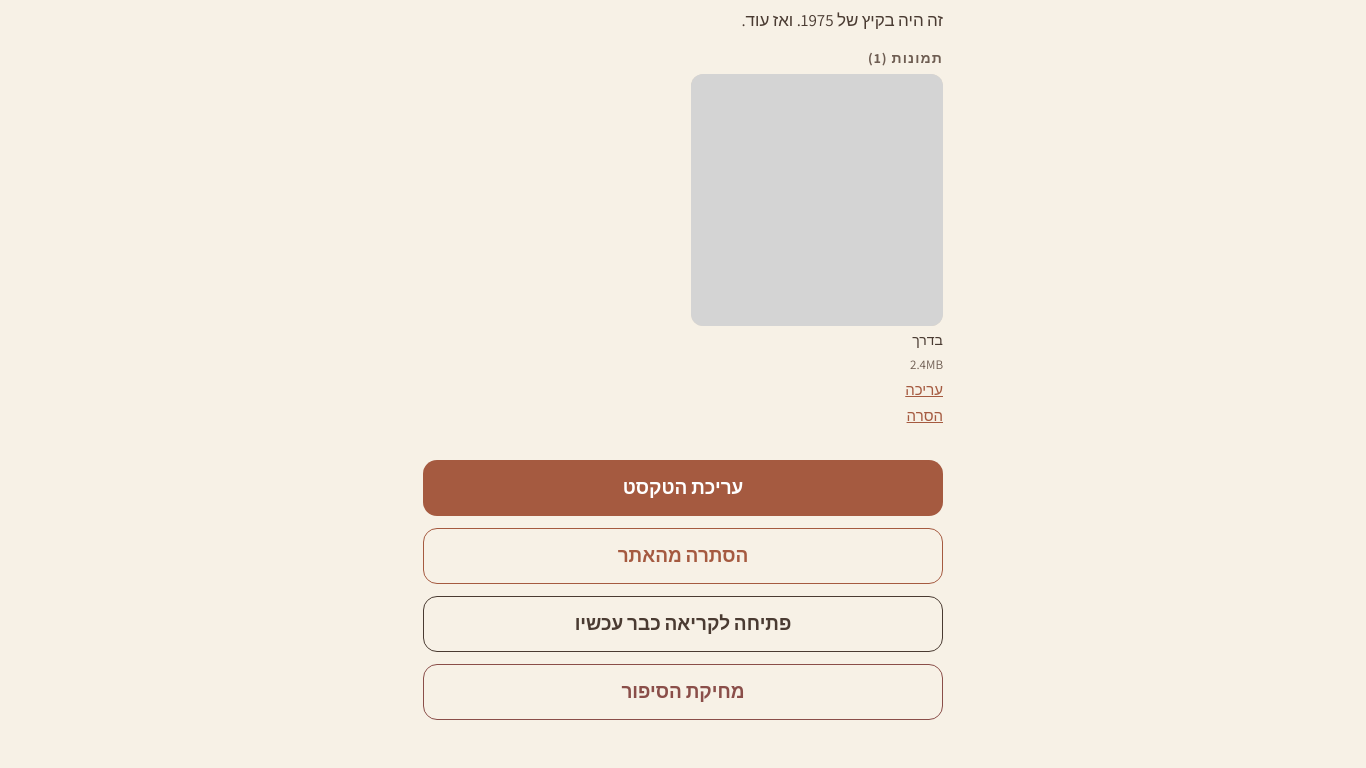
Test case: admin pages › deletes a story only after confirming
The width and height of the screenshot is (1366, 768).
(page scrolled)
Click the button "מחיקת הסיפור" at point(683, 692), box top-left (423, 664), bottom-right (943, 720)
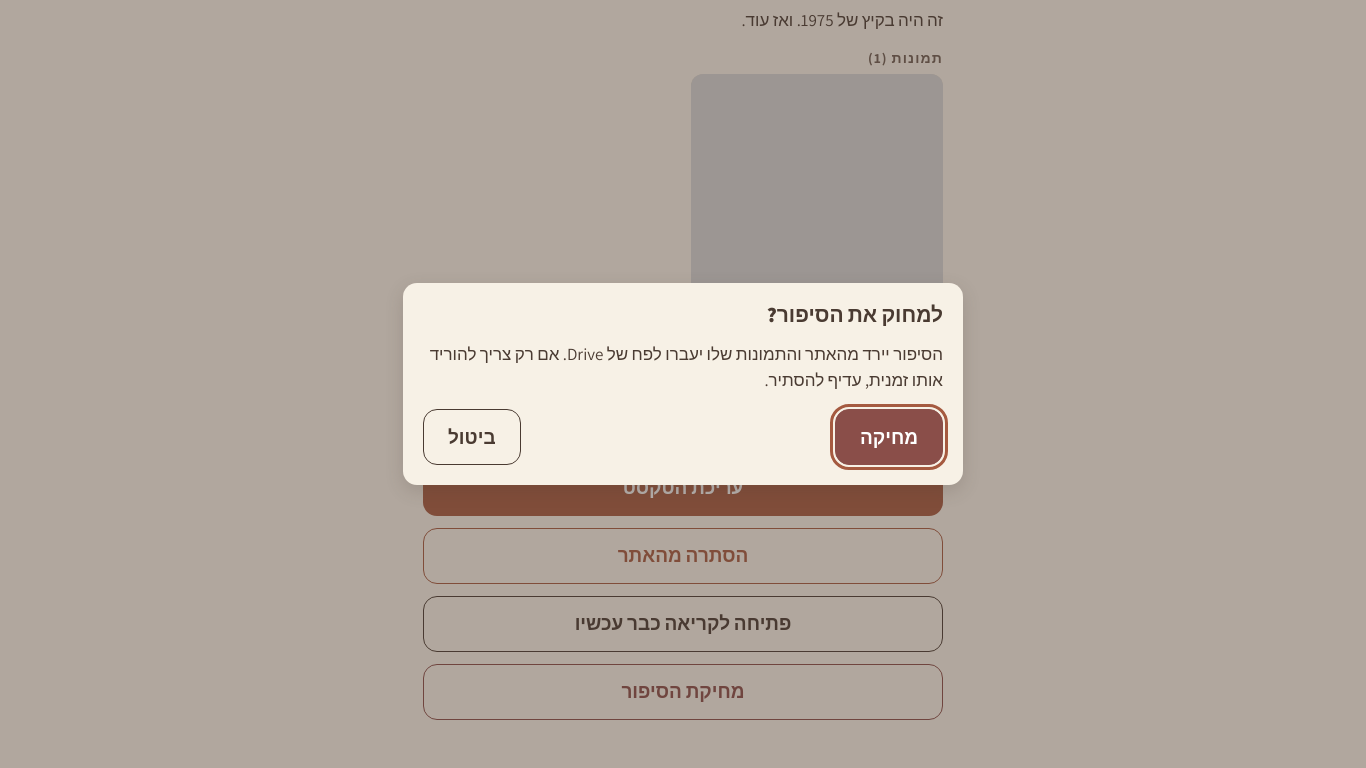
Click the button "מחיקה" at point(889, 437), box top-left (835, 409), bottom-right (943, 465)
(page scrolled)
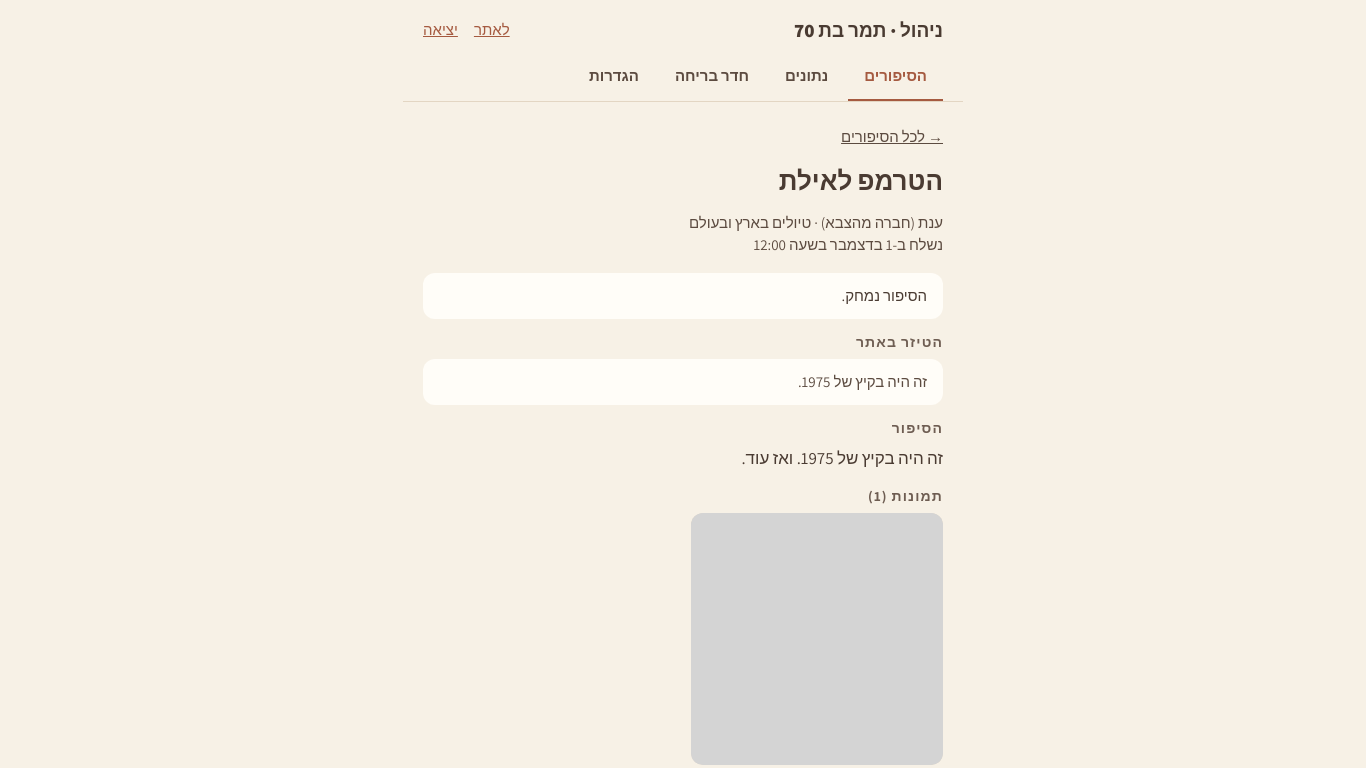
Expected: the text "הסיפור נמחק." is shown, top-left (842, 285), bottom-right (927, 307)
